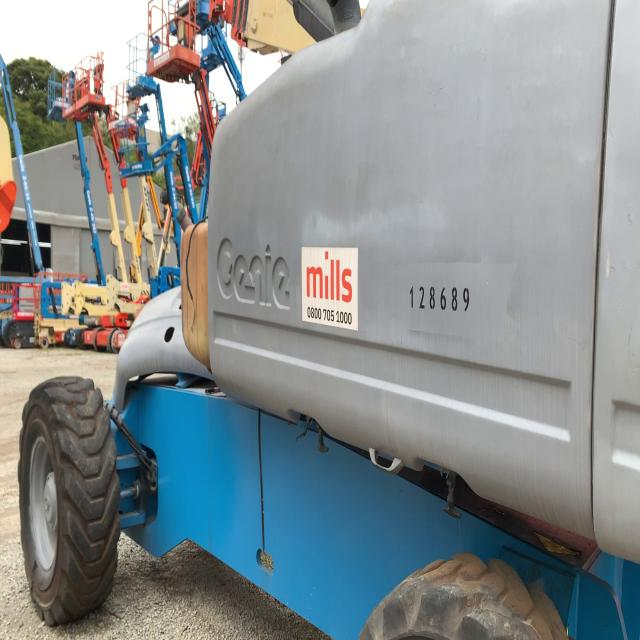Adesivos: (300, 244, 360, 333)
